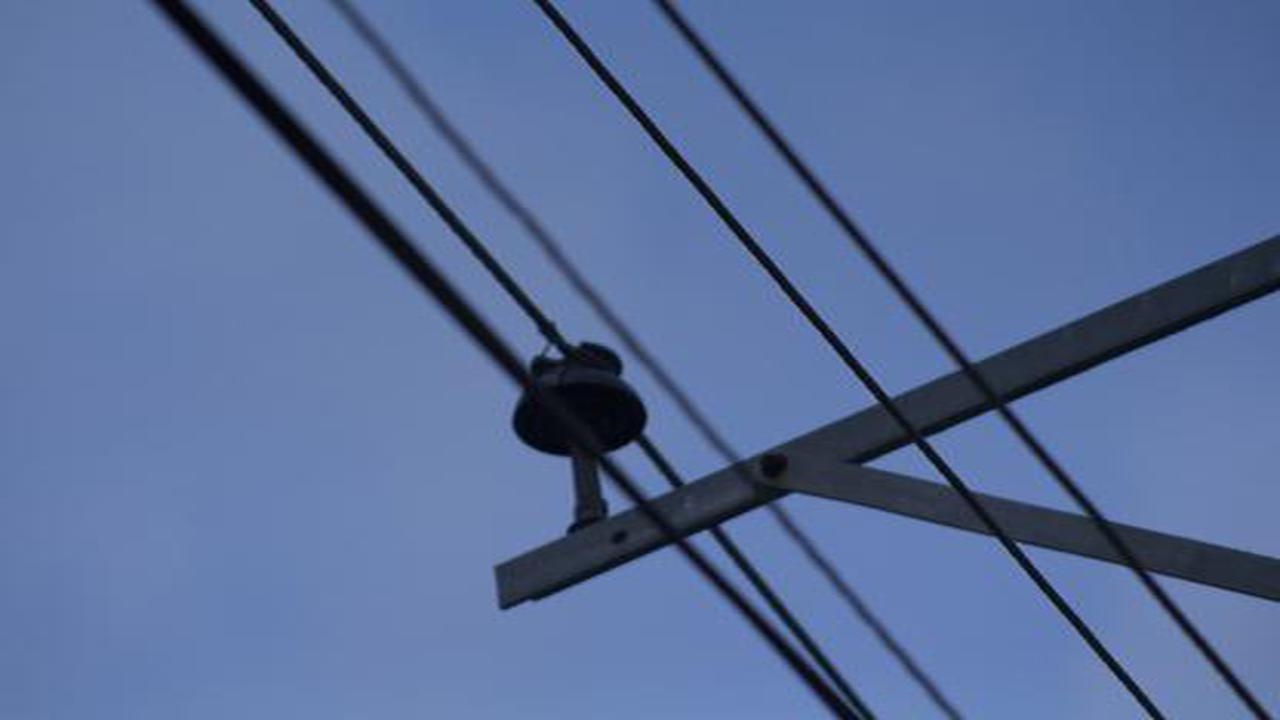insulator_pin: (502, 334, 656, 463)
